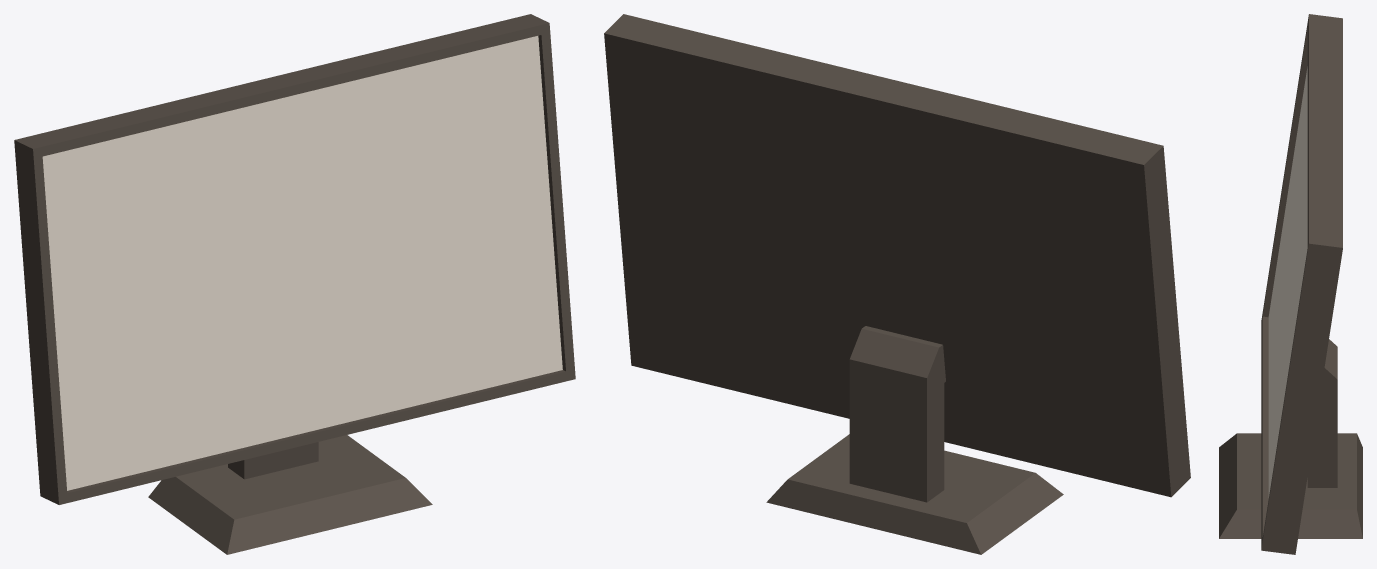
The model's file is kitComputerScreen.glb.
The picture shows the model from 3 angles, left to right: view 1: azimuth 30°, elevation 25°; view 2: azimuth 150°, elevation 25°; view 3: azimuth 270°, elevation 25°; orthographic projection. The views are drawn at different scales.
Visible parts, largest first — view 1: kitComputerScreen_metal, kitComputerScreen_metalDark; view 2: kitComputerScreen_metalDark; view 3: kitComputerScreen_metalDark, kitComputerScreen_metal.
Part boxes in pixels (x1,y1,x2,y2): kitComputerScreen_metal: (42,36,562,490); kitComputerScreen_metalDark: (14,14,575,554); kitComputerScreen_metalDark: (604,14,1190,554); kitComputerScreen_metalDark: (1219,14,1362,554); kitComputerScreen_metal: (1268,66,1307,497).
Size of the model in its own units: 0.34 by 0.2548 by 0.09.
